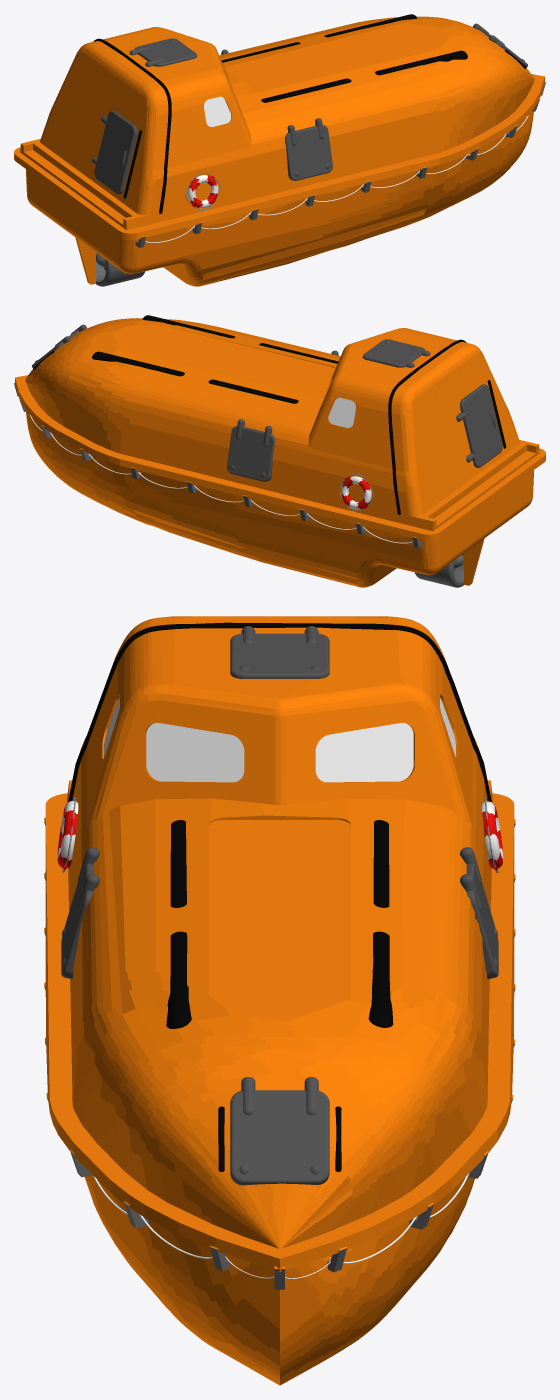
File: New-Sekoci PPNS Lengkap.fbx
3 views of the same model, one above another, from view 1: azimuth 30°, elevation 25°; view 2: azimuth 150°, elevation 25°; view 3: azimuth 270°, elevation 25° (orthographic). The views are drawn at different scales.
Visible parts, largest first — view 1: Rettungsring.002; view 2: Rettungsring.002; view 3: Rettungsring.002.
Boxes of the visible parts, x1,y1,x2,y2 form: Rettungsring.002: (14, 14, 545, 286); Rettungsring.002: (14, 315, 545, 587); Rettungsring.002: (44, 616, 515, 1385).
Size of the model in its own units: 707 by 309 by 302.
